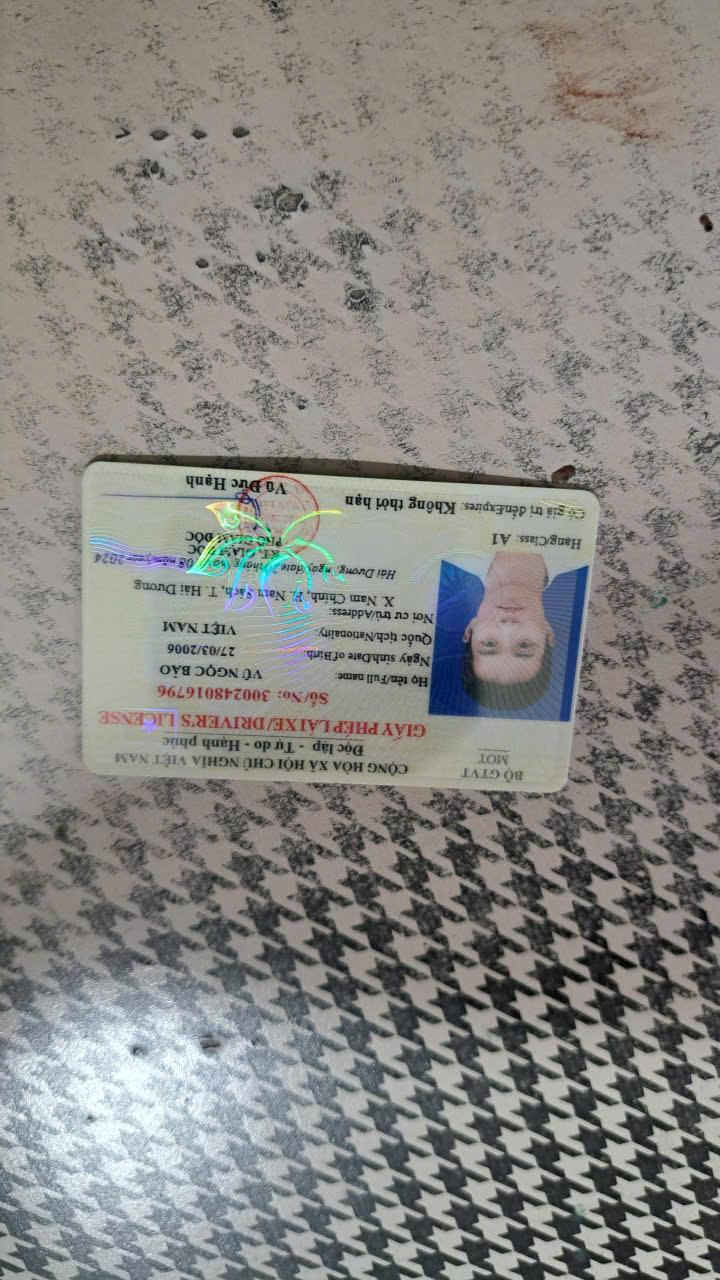gplx: (74, 449, 612, 808)
